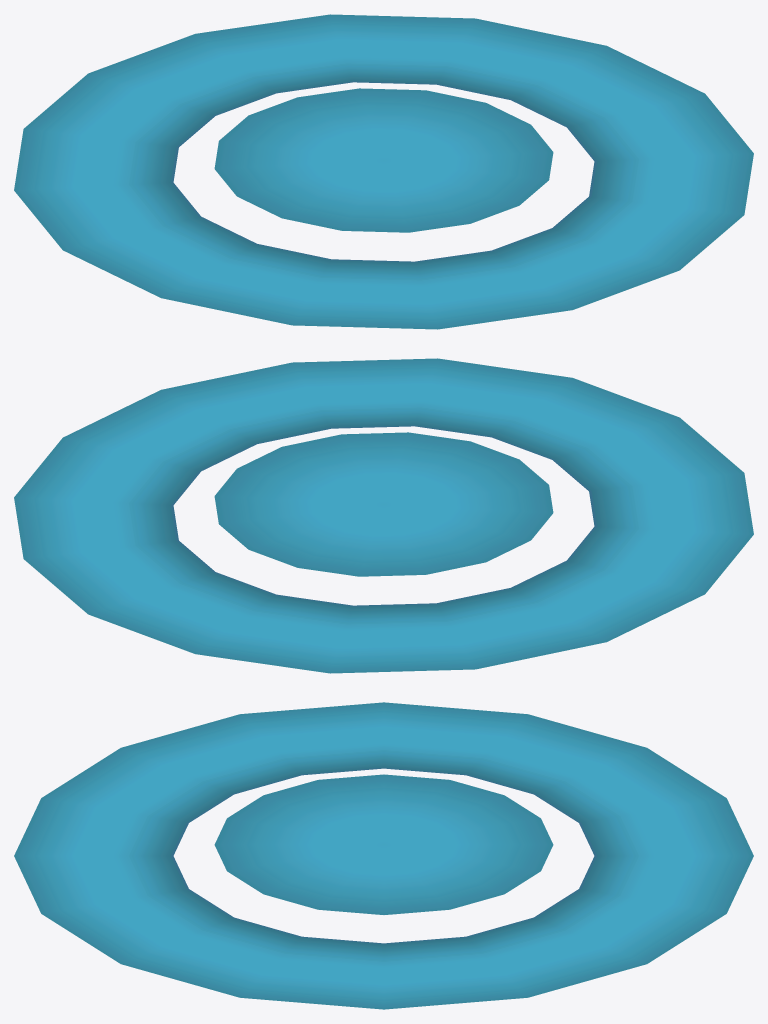
The model's file is TKZC_TouMing_01.fbx.
3 renders of one model, top to bottom at view 1: azimuth 30°, elevation 25°; view 2: azimuth 150°, elevation 25°; view 3: azimuth 270°, elevation 25°, orthographic. The views are drawn at different scales.
Visible parts, largest first — view 1: TKZC_TouMing_01; view 2: TKZC_TouMing_01; view 3: TKZC_TouMing_01.
Part boxes in pixels (box(x1,y1,x2,y2)): TKZC_TouMing_01: box(14, 14, 753, 329); TKZC_TouMing_01: box(14, 358, 753, 673); TKZC_TouMing_01: box(14, 702, 753, 1009).
Size of the model in its own units: 13.4 by 0.2272 by 13.65.
Materials: 1 (1 with a texture image).
